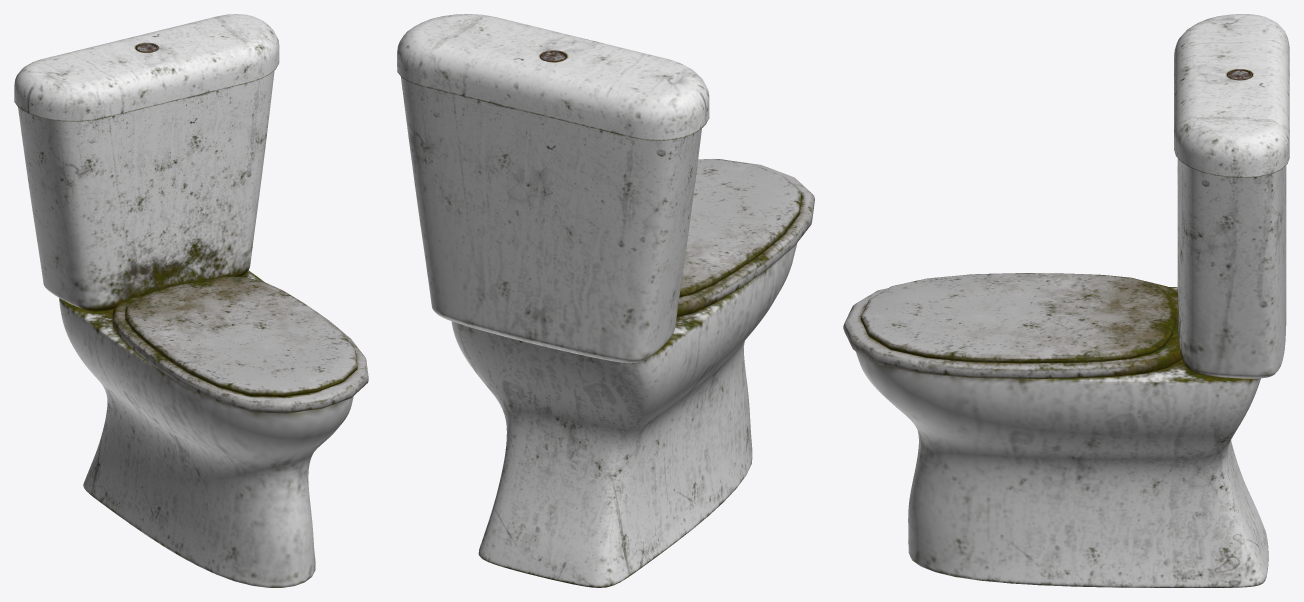
Rendered from dirty_water_closet.glb.
3 renders of one model, left to right at view 1: azimuth 30°, elevation 25°; view 2: azimuth 150°, elevation 25°; view 3: azimuth 270°, elevation 25°, orthographic. The views are drawn at different scales.
Parts seen in each view (by area): view 1: Cube.003, Cube, Cube.002, Cube.004, Cube.001; view 2: Cube.003, Cube, Cube.004, Cube.002, Cube.001; view 3: Cube, Cube.002, Cube.003, Cube.004, Cube.001.
Boxes of the visible parts, x1,y1,x2,y2 form: Cube.003: (18,70,274,311); Cube: (59,270,353,587); Cube.002: (125,276,357,396); Cube.004: (14,14,279,121); Cube.001: (112,276,368,413); Cube.003: (401,77,701,363); Cube: (451,243,797,587); Cube.004: (397,14,709,140); Cube.002: (679,158,801,297); Cube.001: (676,159,814,316); Cube: (855,287,1268,587); Cube.002: (860,273,1175,363); Cube.003: (1177,158,1286,378); Cube.004: (1174,14,1289,177); Cube.001: (843,282,1181,378).
Size of the model in its own units: 1.09 by 1.79 by 1.5.
Materials: 1 (1 with a texture image).
